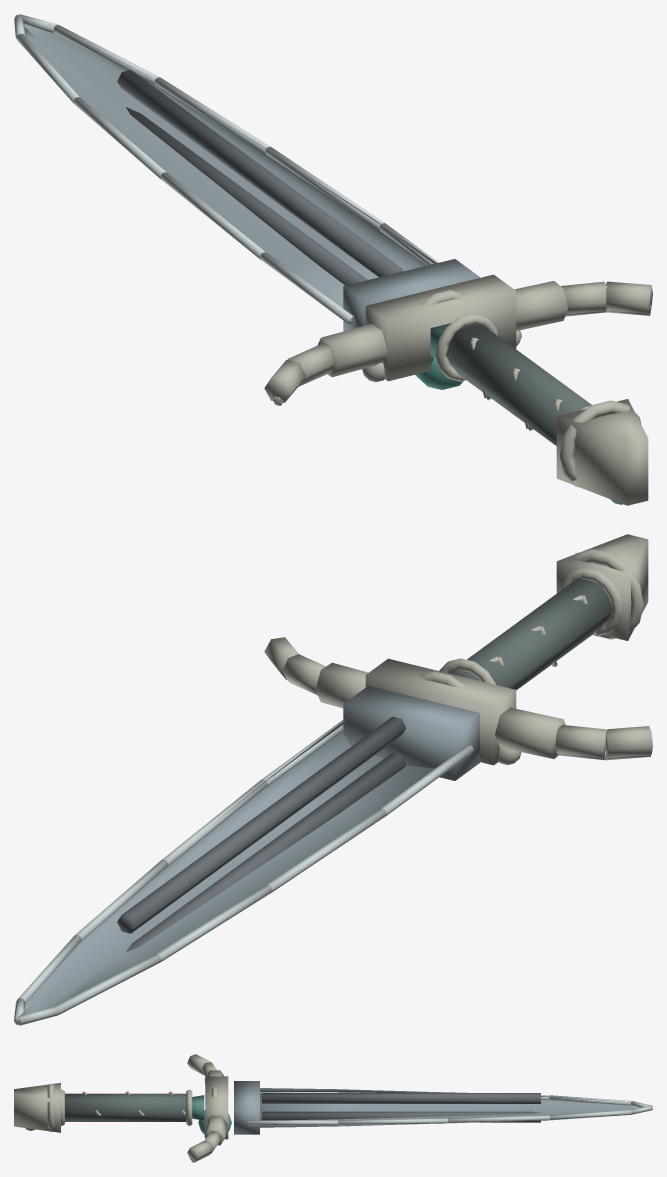
3 views of the same model, one above another, from view 1: azimuth 30°, elevation 25°; view 2: azimuth 150°, elevation 25°; view 3: azimuth 270°, elevation 25° (orthographic). The views are drawn at different scales.
Parts seen in each view (by area): view 1: gold, steel, black, edge, wrap; view 2: steel, gold, black, edge, wrap; view 3: steel, black, gold, wrap, edge, inset.
Boxes of the visible parts, <box> form: gold: <box>264,274,652,505</box>; steel: <box>19,14,479,331</box>; black: <box>117,70,403,285</box>; edge: <box>14,14,651,405</box>; wrap: <box>446,324,591,445</box>; steel: <box>18,686,479,1025</box>; gold: <box>264,534,652,765</box>; black: <box>117,716,406,952</box>; edge: <box>14,682,650,1025</box>; wrap: <box>451,579,613,690</box>; steel: <box>234,1081,651,1134</box>; black: <box>262,1093,540,1122</box>; gold: <box>14,1054,228,1161</box>; wrap: <box>65,1093,186,1121</box>; edge: <box>191,1069,652,1162</box>; inset: <box>192,1095,204,1120</box>.
Size of the model in its own units: 2.61 by 0.6509 by 7.21.
